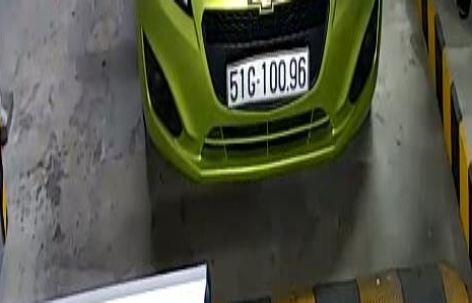plate: (221, 49, 318, 101)
